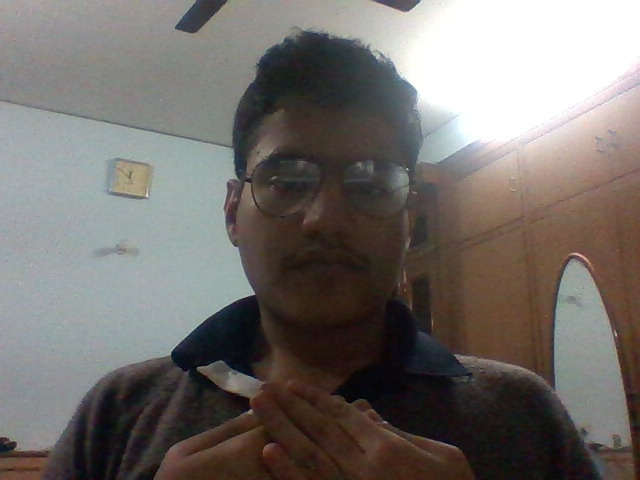Love: (169, 365, 492, 480)
